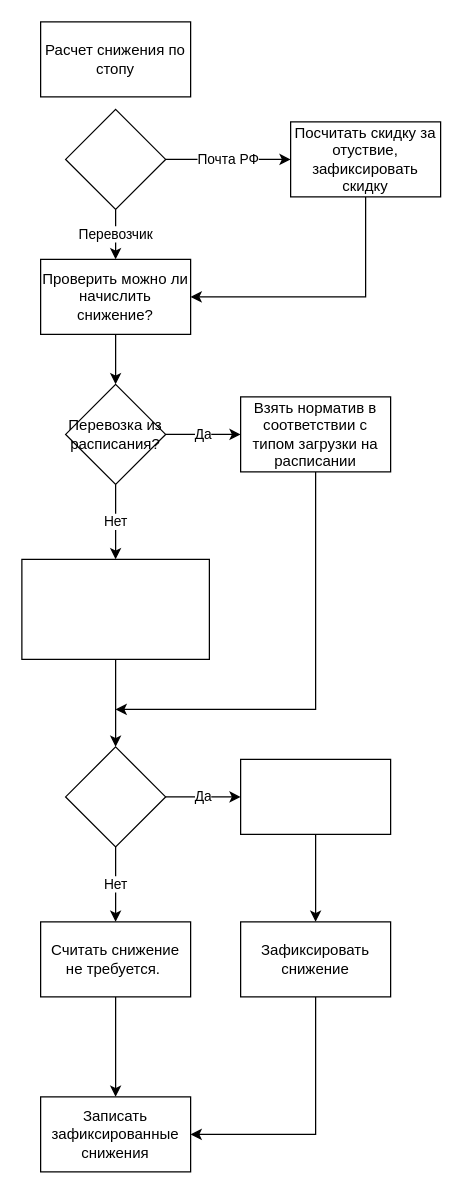
The diagram is 463 pixels wide and 1194 high, and some of its shapes have lost their labels. Here are the shapes that lost their labels. From the top down, the centre of each, then its label:
[115,158]: Кто осуществляет ПРР
[115,608]: Взять норматив как плановое времени проведения ПРР (п.3)
[115,796]: Факт меньше норматива?
[315,796]: Посчитать разницу между нормативом и фактом, умножить на ставку
